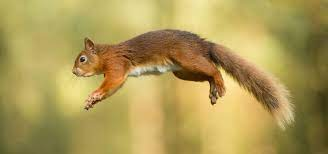squirrel: (71, 28, 295, 132)
